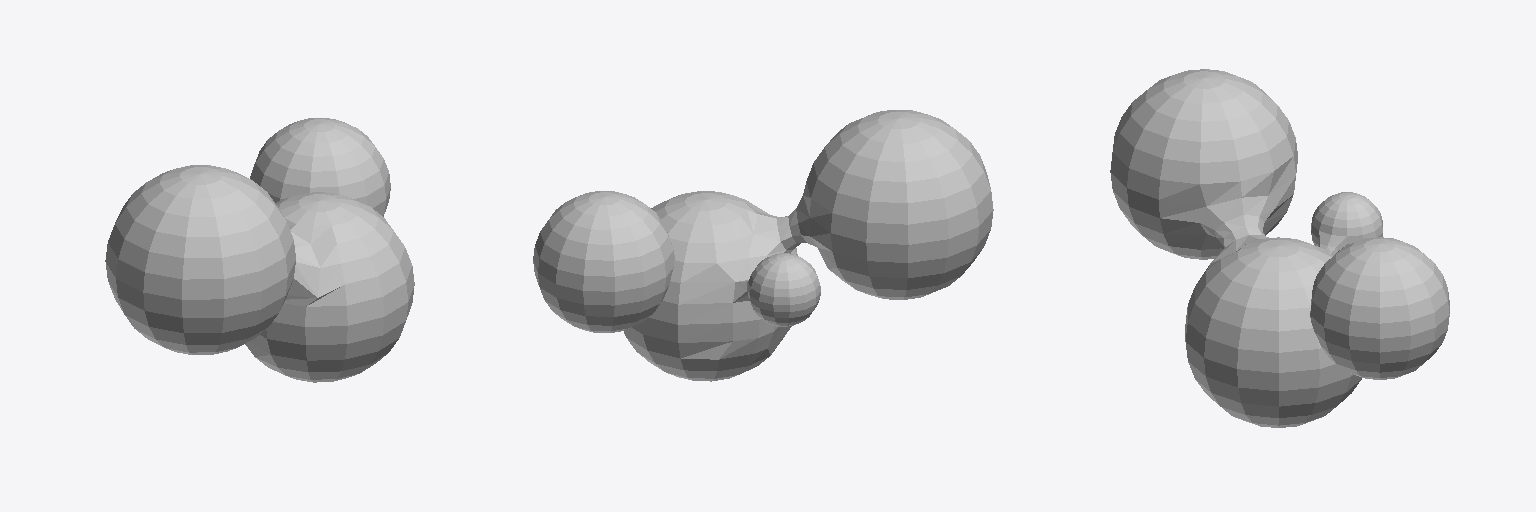
The model's file is replication_cell.obj.
3 views of the same model, side by side, from view 1: azimuth 30°, elevation 25°; view 2: azimuth 150°, elevation 25°; view 3: azimuth 270°, elevation 25° (orthographic).
Visible parts, largest first — view 1: pSphere7; view 2: pSphere7; view 3: pSphere7.
Boxes of the visible parts, <box> form: pSphere7: <box>105,118,414,382</box>; pSphere7: <box>533,110,993,381</box>; pSphere7: <box>1110,69,1449,427</box>.
Bounding box in the file's own units: 7.74 × 5.59 × 6.48.